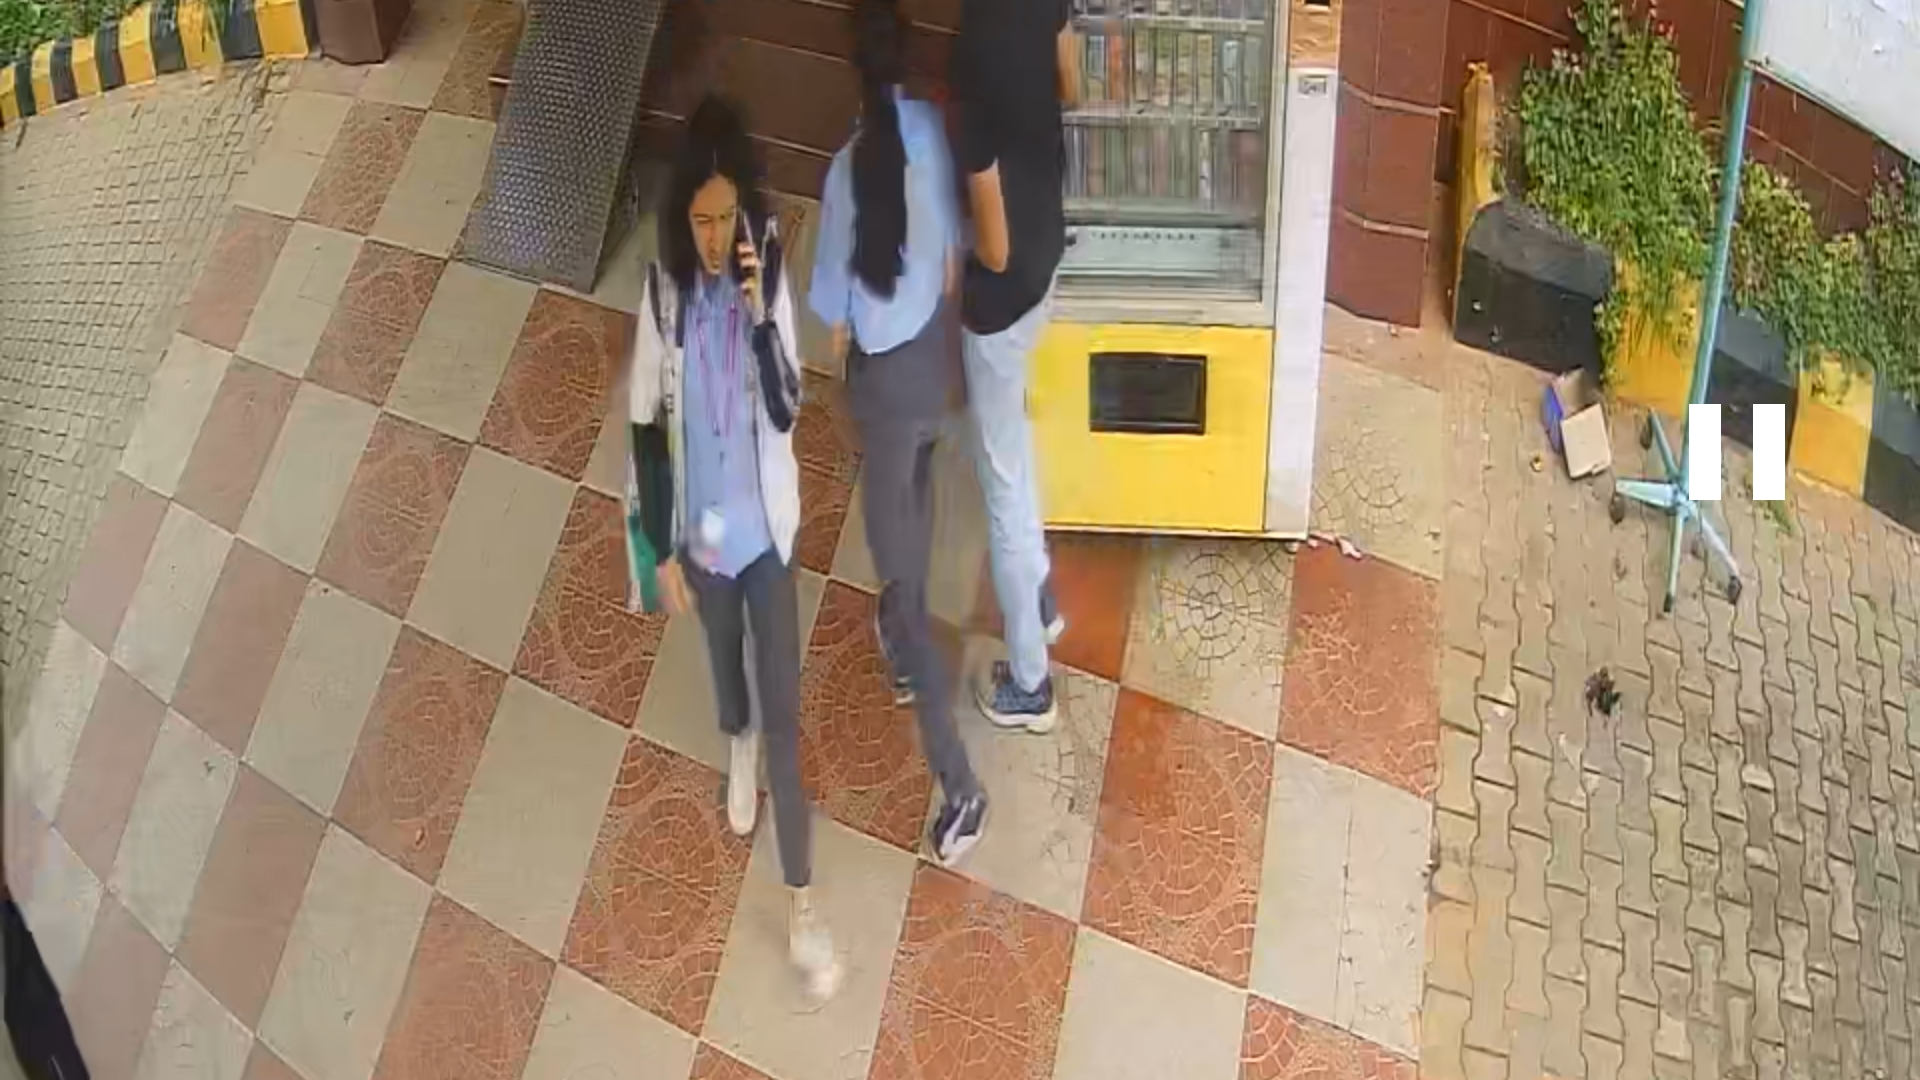not intruder: (629, 88, 847, 977)
